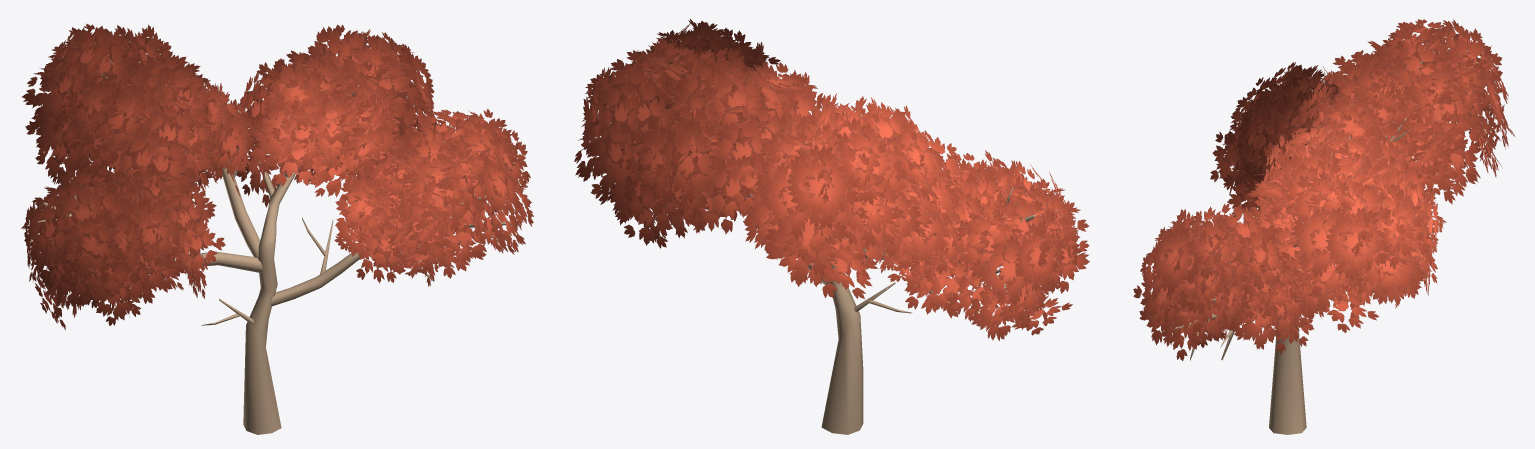
File: tree_maple_02.glb
The picture shows the model from 3 angles, left to right: view 1: azimuth 30°, elevation 25°; view 2: azimuth 150°, elevation 25°; view 3: azimuth 270°, elevation 25°; orthographic projection. The views are drawn at different scales.
Visible parts, largest first — view 1: MapleTree_3; view 2: MapleTree_3; view 3: MapleTree_3.
Boxes of the visible parts, left/top/right/bottom form: MapleTree_3: left=21, top=23, right=533, bottom=434; MapleTree_3: left=574, top=19, right=1089, bottom=434; MapleTree_3: left=1133, top=19, right=1514, bottom=434.
Size of the model in its own units: 8.98 by 6.99 by 6.61.
Materials: 2 (1 with a texture image).
